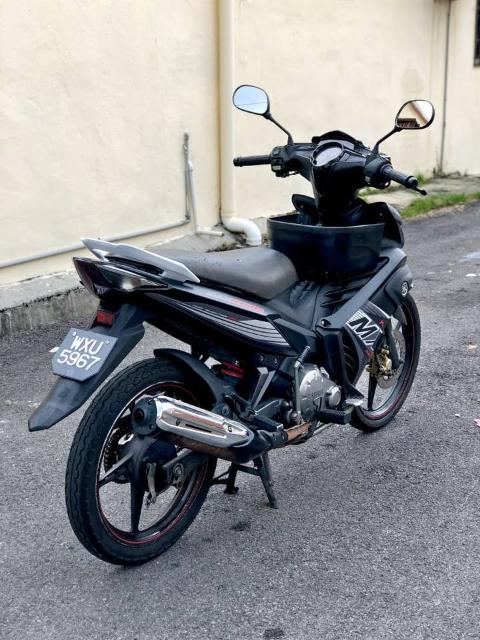License_Plate: (52, 327, 120, 383)
motorcycle: (29, 85, 435, 568)
